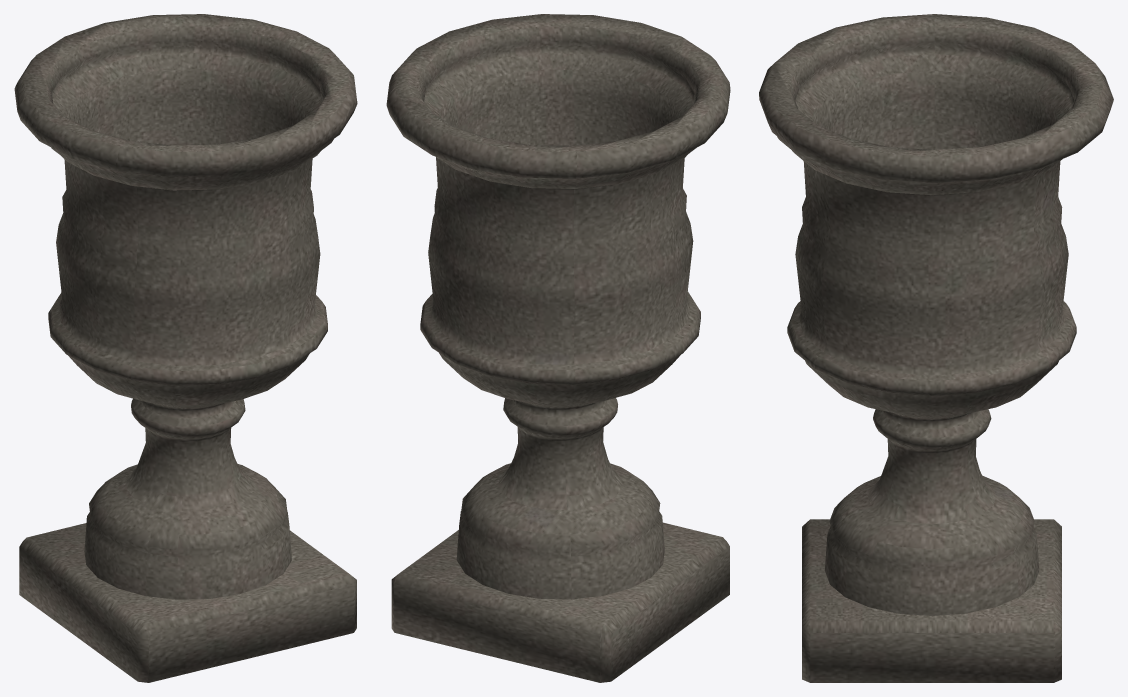
File: flower_pot.glb
The picture shows the model from 3 angles, left to right: view 1: azimuth 30°, elevation 25°; view 2: azimuth 150°, elevation 25°; view 3: azimuth 270°, elevation 25°; orthographic projection. The views are drawn at different scales.
Parts seen in each view (by area): view 1: Object_4, Object_5; view 2: Object_4, Object_5; view 3: Object_4, Object_5.
Part boxes in pixels (left/top/right/bottom): Object_4: left=14, top=50, right=357, bottom=599; Object_5: left=19, top=14, right=356, bottom=682; Object_4: left=386, top=51, right=730, bottom=599; Object_5: left=391, top=14, right=729, bottom=682; Object_4: left=759, top=64, right=1113, bottom=615; Object_5: left=766, top=14, right=1103, bottom=682.
Size of the model in its own units: 0.2953 by 0.5 by 0.2955.
2 materials, 2 textured.
